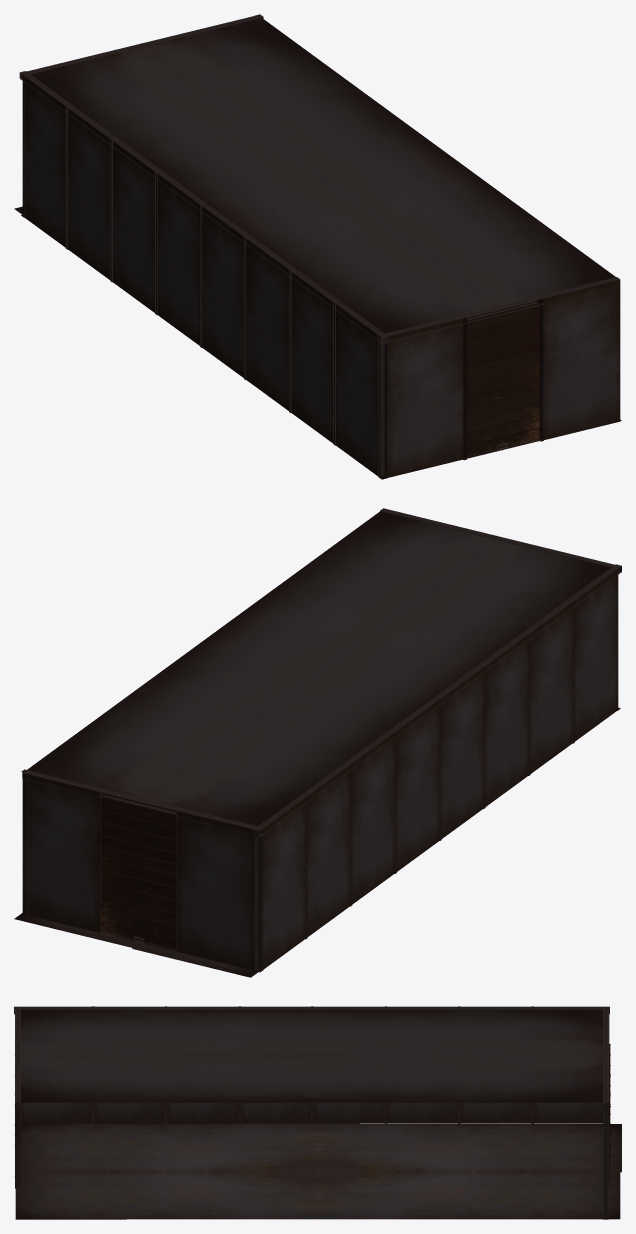
Rendered from 1_6_SHELL.fbx.
3 views of the same model, one above another, from view 1: azimuth 30°, elevation 25°; view 2: azimuth 150°, elevation 25°; view 3: azimuth 270°, elevation 25° (orthographic). The views are drawn at different scales.
Visible parts, largest first — view 1: Ceiling, Cargo_Wall_Modular16, Cargo_Wall_Modular15, VerticalSlidingDoor4, Cargo_Wall_Modular12, Cargo_Wall_Modular19, Cargo_Wall_Modular10, Cargo_Wall_Modular11, Cargo_Wall_Modular1, Cargo_Wall_Modular9, Cargo_Wall_Modular18, Cargo_Wall_Modular17 (+5 smaller); view 2: Ceiling, Cargo_Wall_Modular14, Cargo_Wall_Modular13, VerticalSlidingDoor3, Cargo_Wall_Modular10, Cargo_Wall_Modular9, Cargo_Wall_Modular17, Cargo_Wall_Modular12, Cargo_Wall_Modular19, Cargo_Wall_Modular11, Cargo_Wall_Modular1, Cargo_Wall_Modular18 (+6 smaller); view 3: Ceiling, Cargo_Floor3, Cargo_Floor1, Long_Horizontal_Beam1, Cargo_Wall_Modular10, Cargo_Wall_Modular12, Cargo_Wall_Modular18, Cargo_Wall_Modular1, Cargo_Wall_Modular17, Cargo_Wall_Modular9, Cargo_Wall_Modular11, Cargo_Wall_Modular19 (+5 smaller).
Part boxes in pixels (x1,y1,x2,y2): Ceiling: (21, 18, 619, 337); Cargo_Wall_Modular16: (542, 280, 620, 440); Cargo_Wall_Modular15: (387, 318, 464, 477); VerticalSlidingDoor4: (464, 302, 541, 458); Cargo_Wall_Modular12: (156, 173, 201, 346); Cargo_Wall_Modular19: (22, 75, 67, 248); Cargo_Wall_Modular10: (246, 239, 290, 411); Cargo_Wall_Modular11: (201, 206, 245, 379); Cargo_Wall_Modular1: (336, 304, 379, 477); Cargo_Wall_Modular9: (291, 272, 334, 444); Cargo_Wall_Modular18: (68, 108, 111, 281); Cargo_Wall_Modular17: (113, 141, 156, 313); Ceiling: (22, 511, 618, 830); Cargo_Wall_Modular14: (22, 773, 99, 932); Cargo_Wall_Modular13: (177, 811, 254, 970); VerticalSlidingDoor3: (100, 796, 176, 951); Cargo_Wall_Modular10: (484, 634, 529, 807); Cargo_Wall_Modular9: (529, 601, 573, 774); Cargo_Wall_Modular17: (350, 732, 394, 905); Cargo_Wall_Modular12: (395, 700, 439, 872); Cargo_Wall_Modular19: (261, 798, 305, 970); Cargo_Wall_Modular11: (440, 667, 484, 840); Cargo_Wall_Modular1: (574, 569, 618, 741); Cargo_Wall_Modular18: (306, 765, 349, 938); Ceiling: (20, 1009, 609, 1102); Cargo_Floor3: (15, 1171, 620, 1219); Cargo_Floor1: (20, 1123, 621, 1172); Long_Horizontal_Beam1: (14, 1006, 609, 1014); Cargo_Wall_Modular10: (167, 1102, 238, 1123); Cargo_Wall_Modular12: (313, 1102, 384, 1123); Cargo_Wall_Modular18: (460, 1102, 531, 1123); Cargo_Wall_Modular1: (21, 1102, 91, 1123); Cargo_Wall_Modular17: (387, 1102, 457, 1123); Cargo_Wall_Modular9: (94, 1102, 164, 1123); Cargo_Wall_Modular11: (241, 1102, 310, 1123); Cargo_Wall_Modular19: (534, 1102, 602, 1123).
Size of the model in its own units: 432 by 245 by 1152.
